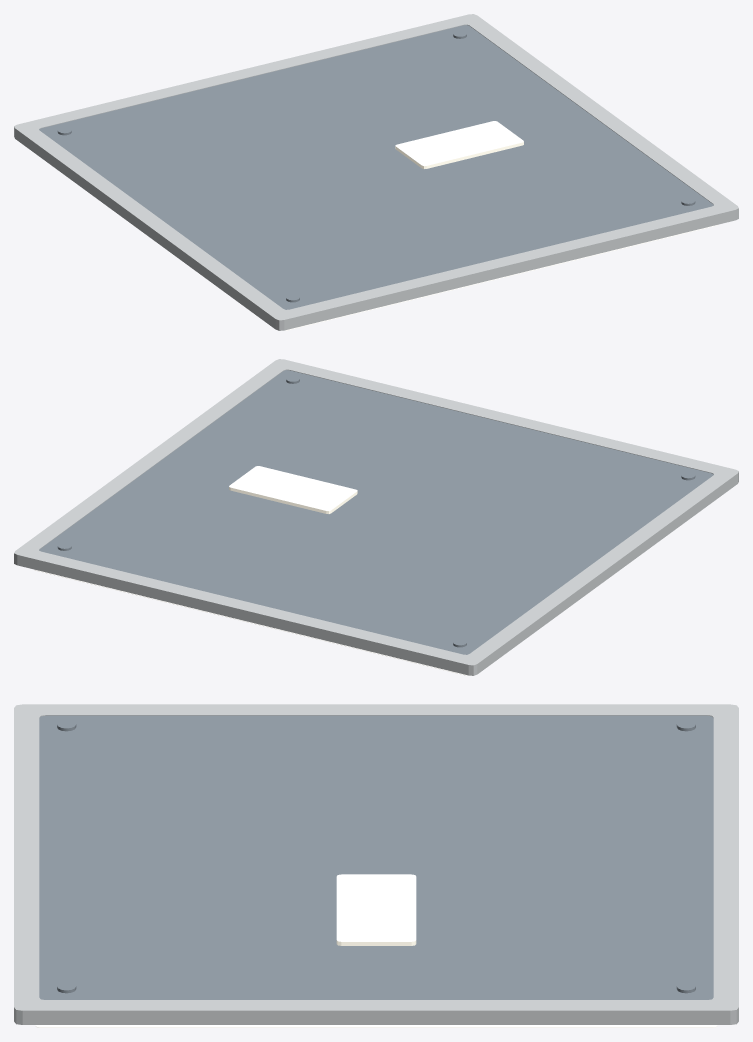
The model's file is source.glb.
The picture shows the model from 3 angles, top to bottom: view 1: azimuth 30°, elevation 25°; view 2: azimuth 150°, elevation 25°; view 3: azimuth 270°, elevation 25°; orthographic projection. The views are drawn at different scales.
Visible parts, largest first — view 1: 机加工金属, 粉末涂层铝壳, Emitters; view 2: 机加工金属, 粉末涂层铝壳, Emitters; view 3: 机加工金属, 粉末涂层铝壳, Emitters.
Boxes of the visible parts, bbox=[...] form: 机加工金属: bbox=[39, 25, 713, 309]; 粉末涂层铝壳: bbox=[14, 14, 738, 330]; Emitters: bbox=[285, 121, 717, 330]; 机加工金属: bbox=[39, 370, 713, 654]; 粉末涂层铝壳: bbox=[14, 359, 738, 675]; Emitters: bbox=[35, 466, 467, 675]; 机加工金属: bbox=[39, 715, 713, 999]; 粉末涂层铝壳: bbox=[14, 704, 738, 1024]; Emitters: bbox=[35, 874, 717, 1027].
Size of the model in its own units: 0.595 by 0.0277 by 0.595.
